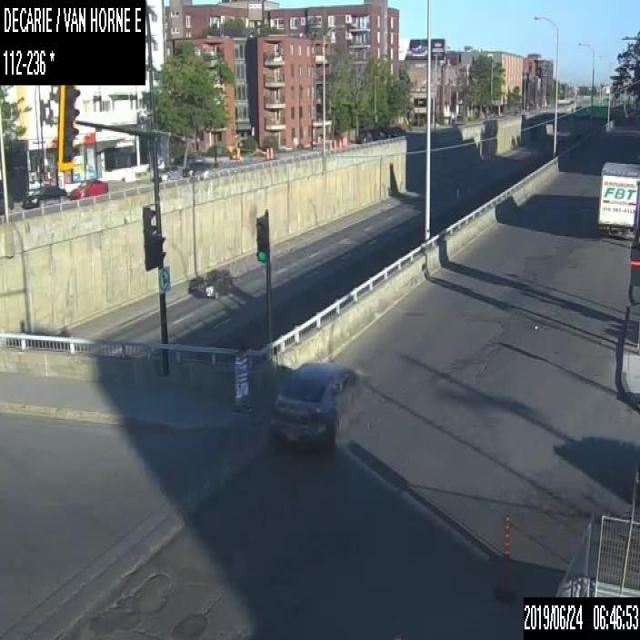construction: (492, 512, 520, 603), (264, 145, 268, 159), (328, 137, 332, 149), (341, 136, 345, 148), (268, 146, 272, 158), (236, 147, 240, 158), (332, 138, 336, 148), (338, 138, 340, 148)
pedestrian: (231, 344, 249, 413)
vehicle: (268, 359, 367, 448), (596, 157, 638, 231), (20, 182, 65, 206), (199, 270, 232, 298), (69, 177, 109, 199), (638, 160, 639, 161)
